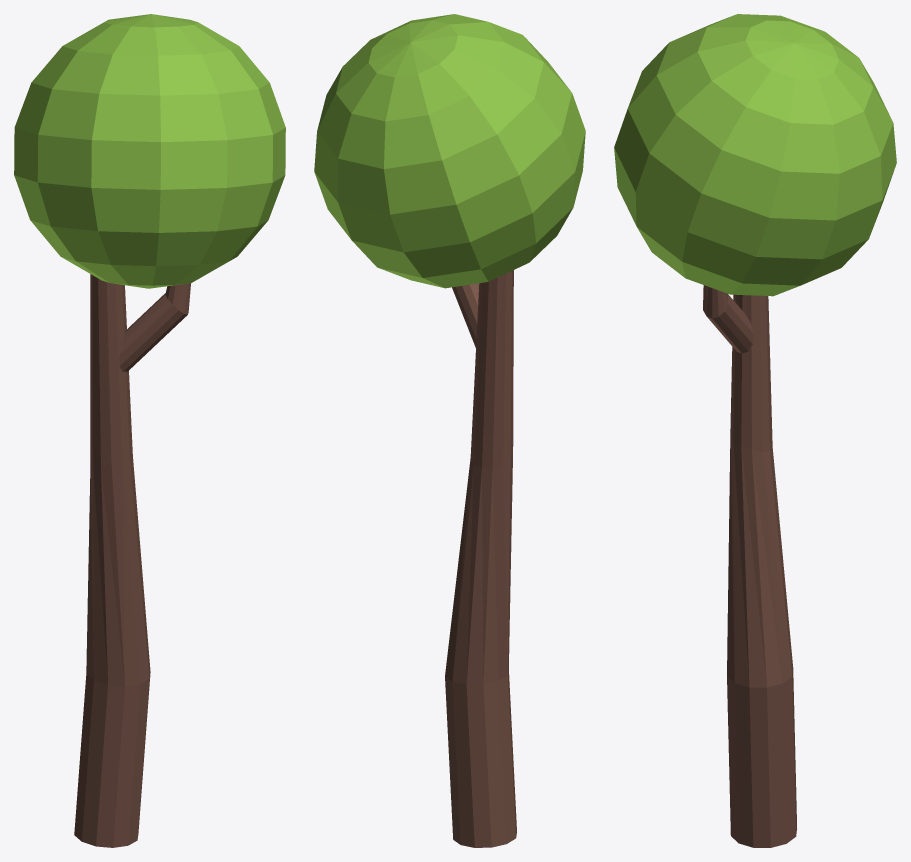
Rendered from tree.obj.
3 renders of one model, left to right at view 1: azimuth 30°, elevation 25°; view 2: azimuth 150°, elevation 25°; view 3: azimuth 270°, elevation 25°, orthographic. The views are drawn at different scales.
Parts seen in each view (by area): view 1: tree12, tree11; view 2: tree12, tree11; view 3: tree12, tree11.
Part boxes in pixels (bbox=[...]): tree12: bbox=[14, 14, 285, 288]; tree11: bbox=[74, 274, 190, 847]; tree12: bbox=[314, 14, 585, 288]; tree11: bbox=[445, 270, 516, 847]; tree12: bbox=[614, 14, 896, 296]; tree11: bbox=[703, 285, 796, 847].
Size of the model in its own units: 0.4183 by 1.35 by 0.4176.
